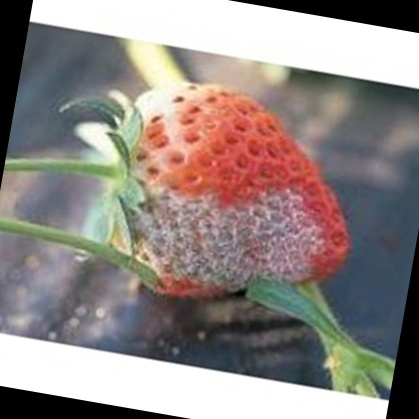Gray_Mold: (120, 169, 335, 291)
